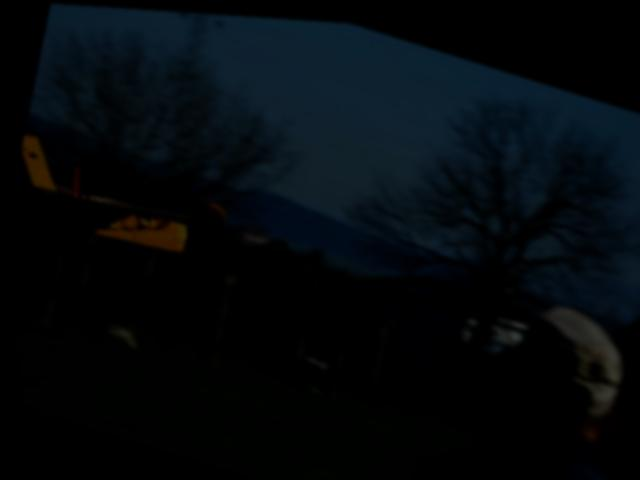iha: (5, 119, 249, 278)
